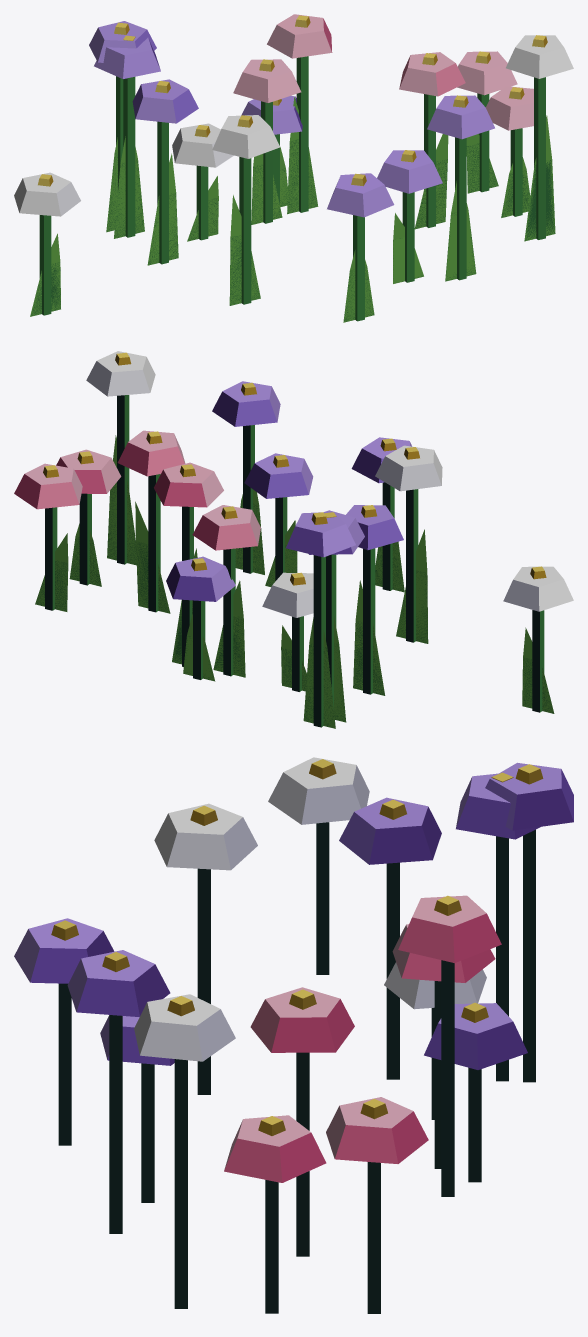
The model's file is flower_patch_b.glb.
The picture shows the model from 3 angles, top to bottom: view 1: azimuth 30°, elevation 25°; view 2: azimuth 150°, elevation 25°; view 3: azimuth 270°, elevation 25°; orthographic projection. The views are drawn at different scales.
Visible parts, largest first — view 1: flower_patch_b; view 2: flower_patch_b; view 3: flower_patch_b.
Part boxes in pixels (x1=…): flower_patch_b: x1=14, y1=14, x2=573, y2=322; flower_patch_b: x1=14, y1=351, x2=573, y2=728; flower_patch_b: x1=14, y1=757, x2=573, y2=1313.
Size of the model in its own units: 0.8267 by 0.3116 by 0.509.
